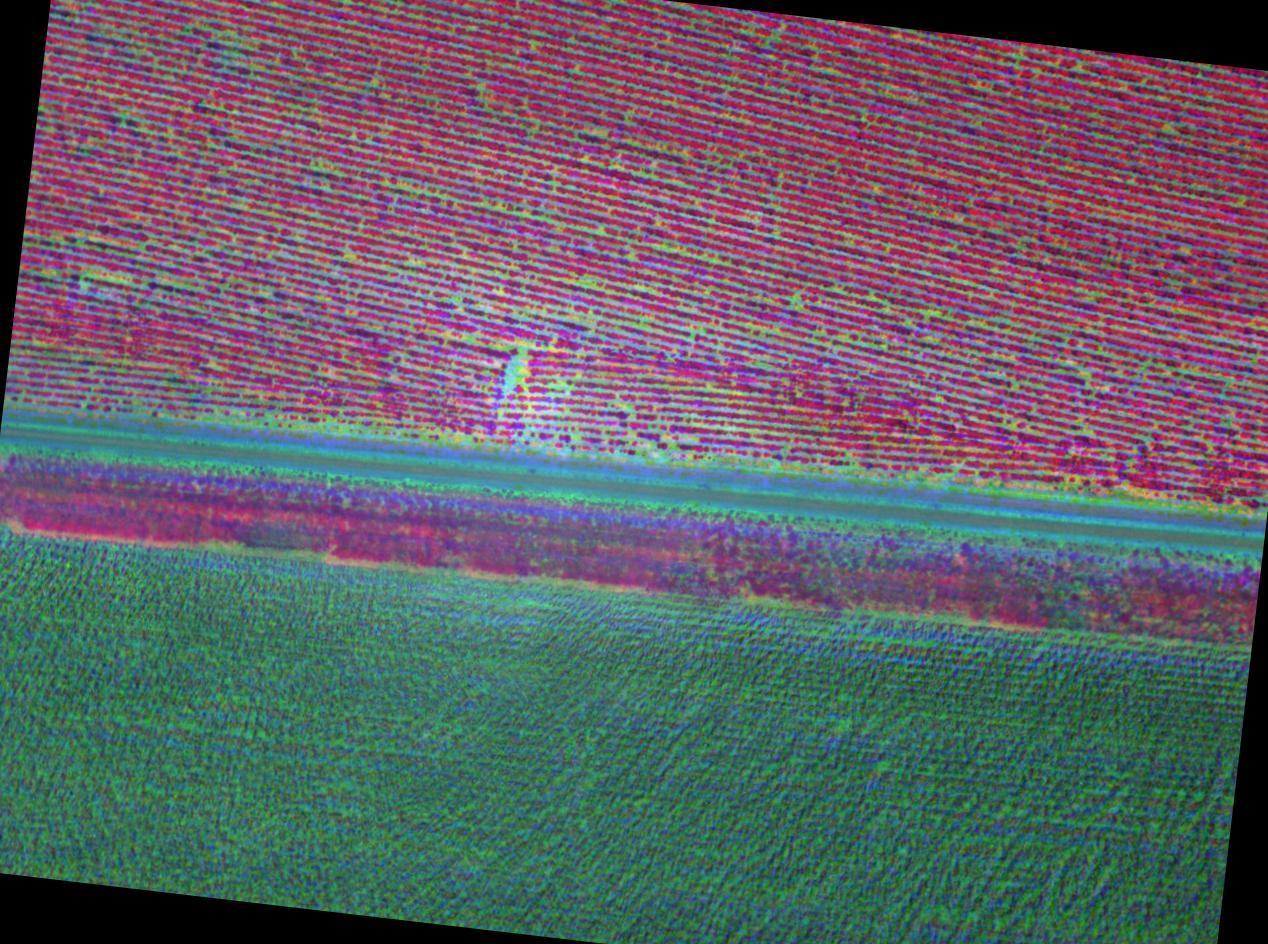dc: (508, 365, 525, 383), (120, 113, 130, 124), (791, 299, 802, 309), (1079, 367, 1088, 375), (1137, 370, 1143, 377), (349, 254, 354, 262), (515, 356, 523, 360)
